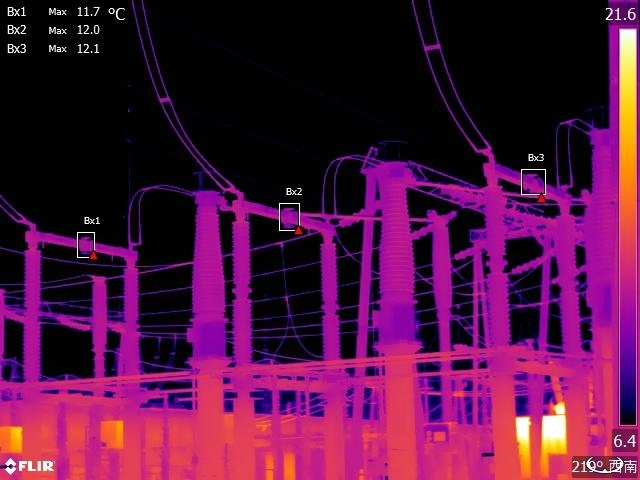circuit breaker: (429, 208, 457, 356), (86, 271, 108, 383)
current transformer: (374, 126, 424, 350), (182, 169, 236, 364), (586, 99, 617, 327)
insulator: (511, 248, 555, 274), (454, 237, 489, 261)
post insulator: (485, 189, 513, 350), (557, 211, 584, 359), (19, 244, 46, 386), (230, 217, 255, 364), (317, 236, 342, 370), (120, 265, 143, 399)
switch: (18, 220, 141, 269), (230, 186, 337, 238), (484, 154, 579, 209)
